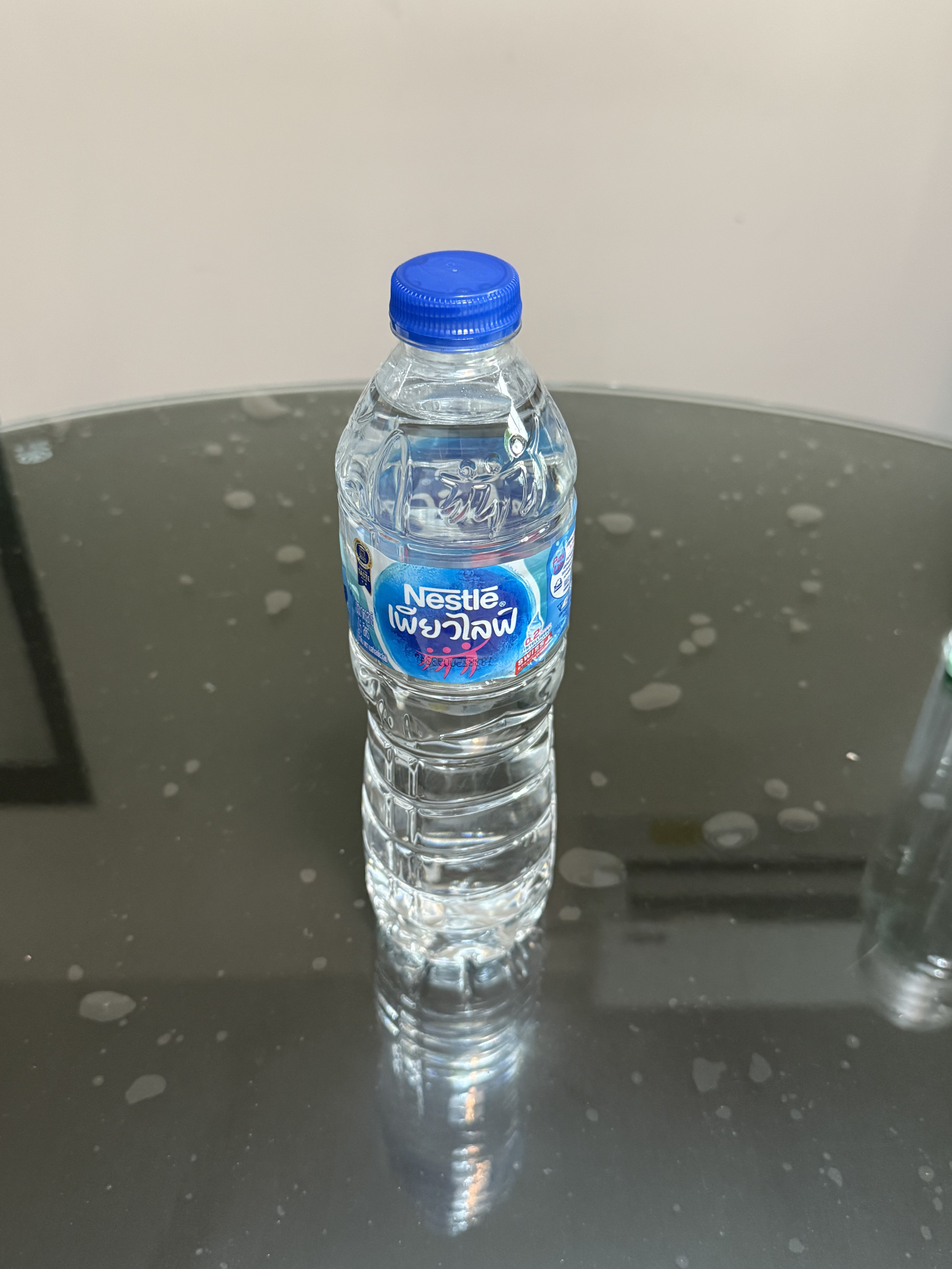closed_cap: (386, 246, 524, 351)
